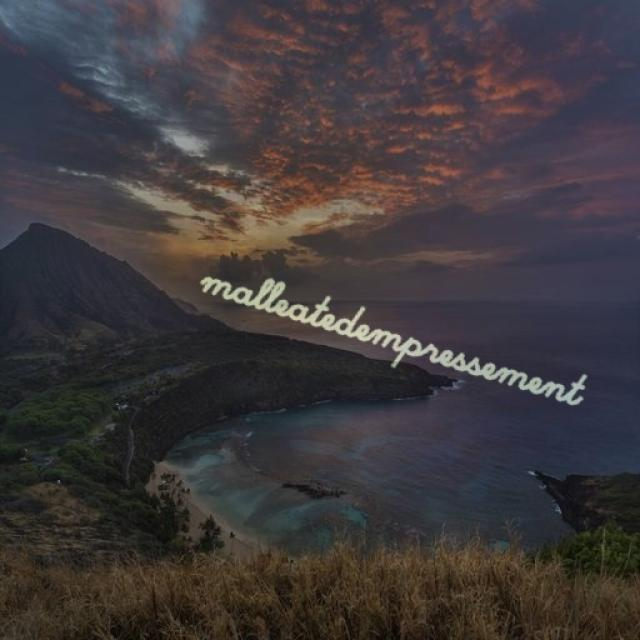watermark: (190, 258, 609, 412)
